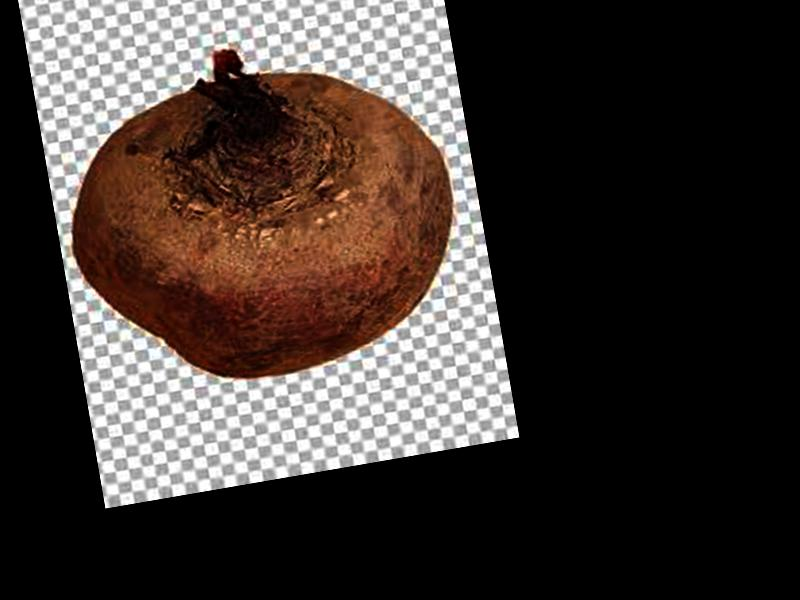Beet: (47, 15, 474, 403)
